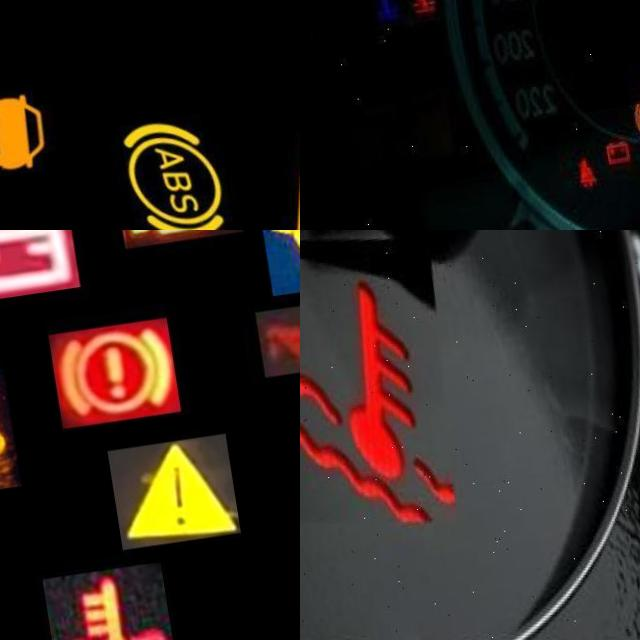Central Warning lamp: (94, 447, 224, 560)
Engine cooling system: (25, 572, 157, 640)
